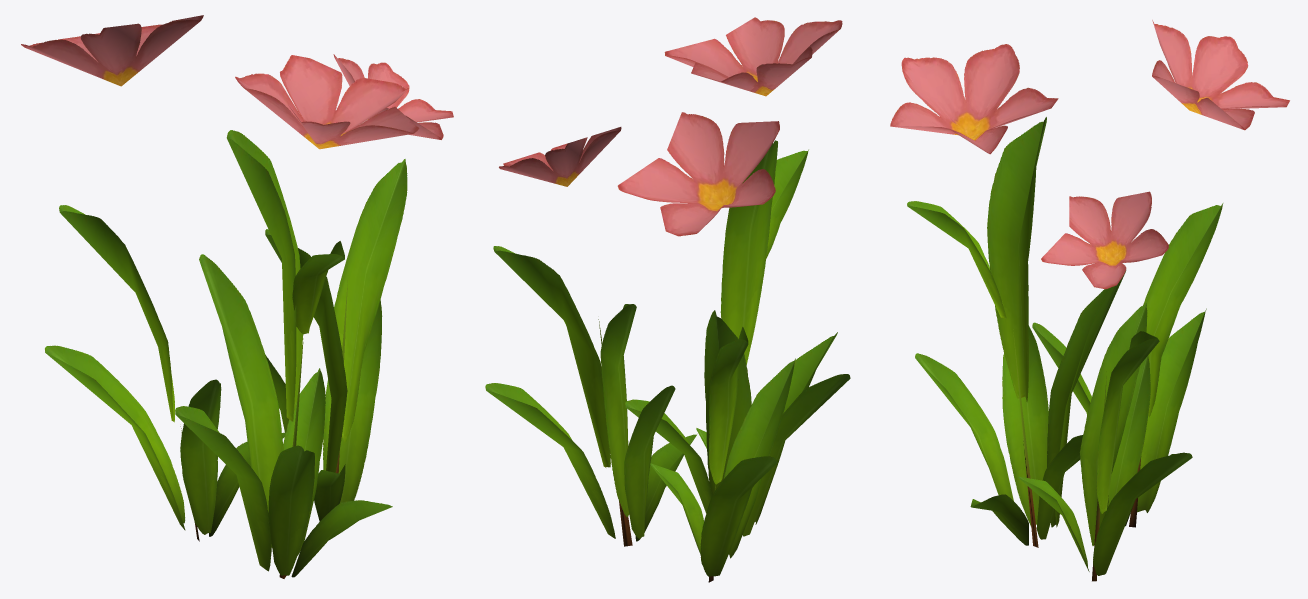
The model's file is flower_3_group.glb.
3 views of the same model, side by side, from view 1: azimuth 30°, elevation 25°; view 2: azimuth 150°, elevation 25°; view 3: azimuth 270°, elevation 25° (orthographic). The views are drawn at different scales.
Visible parts, largest first — view 1: Flower_3_Group; view 2: Flower_3_Group; view 3: Flower_3_Group.
Boxes of the visible parts, x1=… form: Flower_3_Group: x1=21, y1=15, x2=453, y2=578; Flower_3_Group: x1=485, y1=17, x2=850, y2=582; Flower_3_Group: x1=890, y1=20, x2=1289, y2=581.
Bounding box in the file's own units: 1.49 × 2.05 × 1.59.
2 materials, 2 textured.
